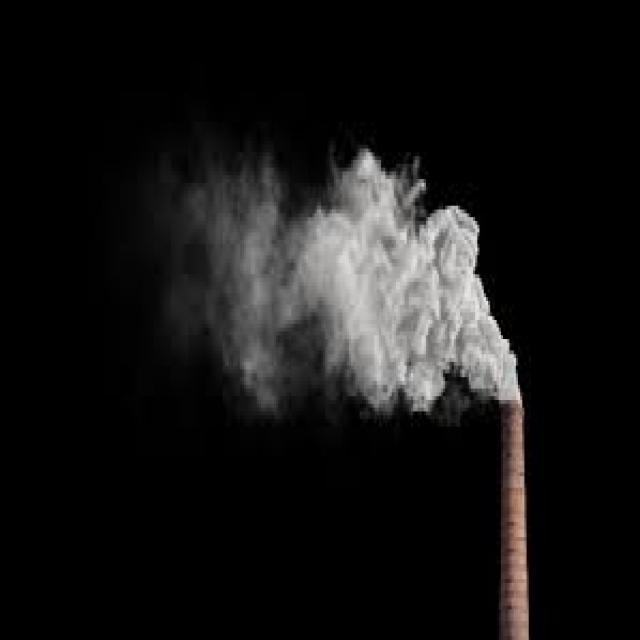Smoke: (130, 122, 527, 418)
